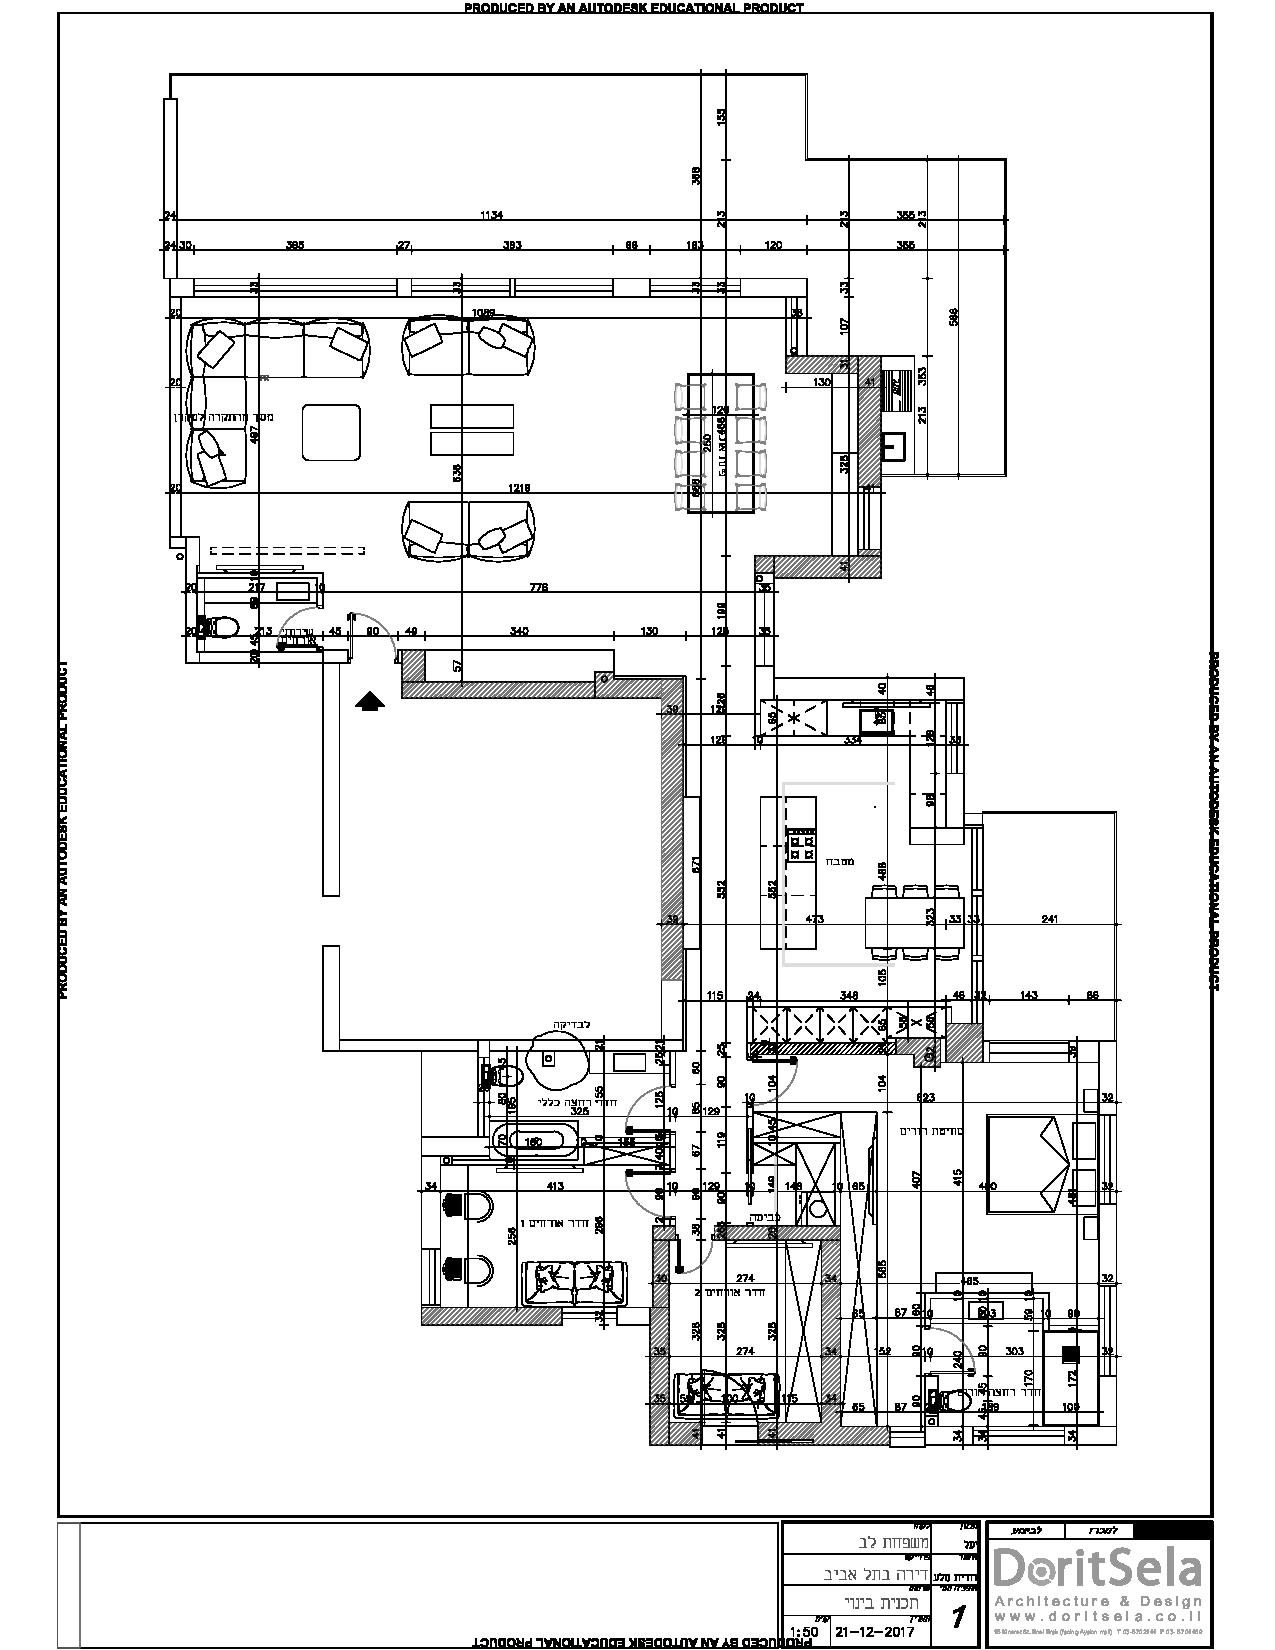door: (342, 605, 399, 659), (741, 1051, 798, 1105), (620, 1079, 676, 1133), (620, 1165, 676, 1219), (271, 603, 325, 651)
wall: (660, 678, 686, 983), (398, 680, 684, 700), (650, 1225, 672, 1446)
window: (410, 277, 613, 300), (846, 475, 895, 565), (192, 279, 396, 299), (971, 824, 983, 1026), (972, 1425, 1075, 1446), (1096, 1282, 1117, 1378), (1096, 1110, 1117, 1205), (650, 279, 741, 299), (944, 698, 966, 773)
